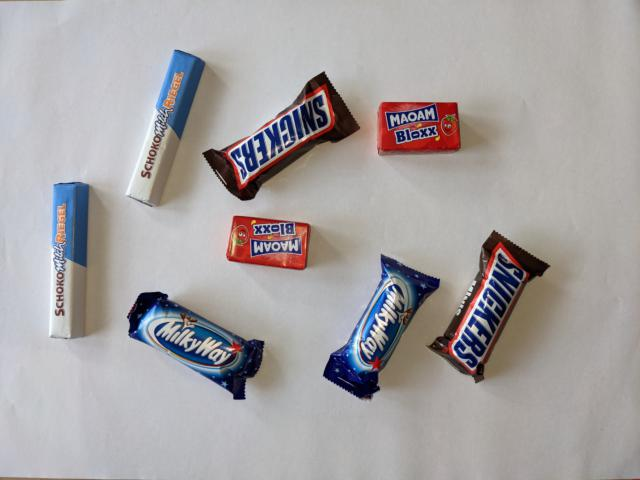MAOAM: (223, 213, 313, 272), (375, 100, 464, 157)
MilkyWay: (319, 253, 442, 404), (124, 289, 267, 401)
Schokoriegel: (121, 47, 207, 211), (46, 181, 92, 342)
Snickers: (200, 69, 362, 203), (423, 228, 553, 386)
